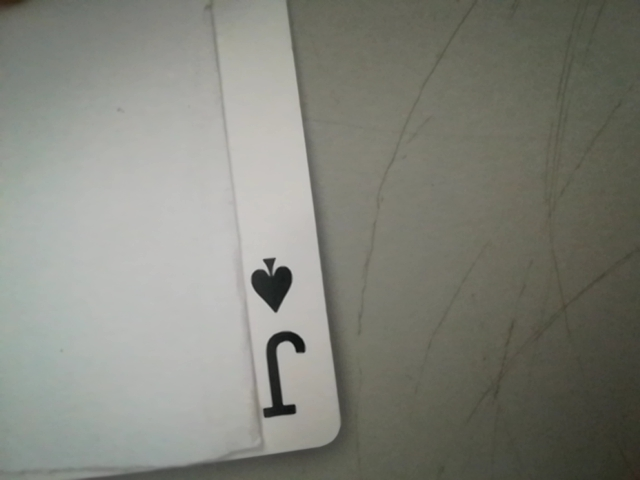ht j: (238, 244, 336, 433)
